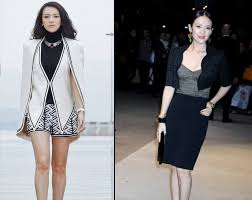F_tailored skirt: (160, 93, 210, 173)
